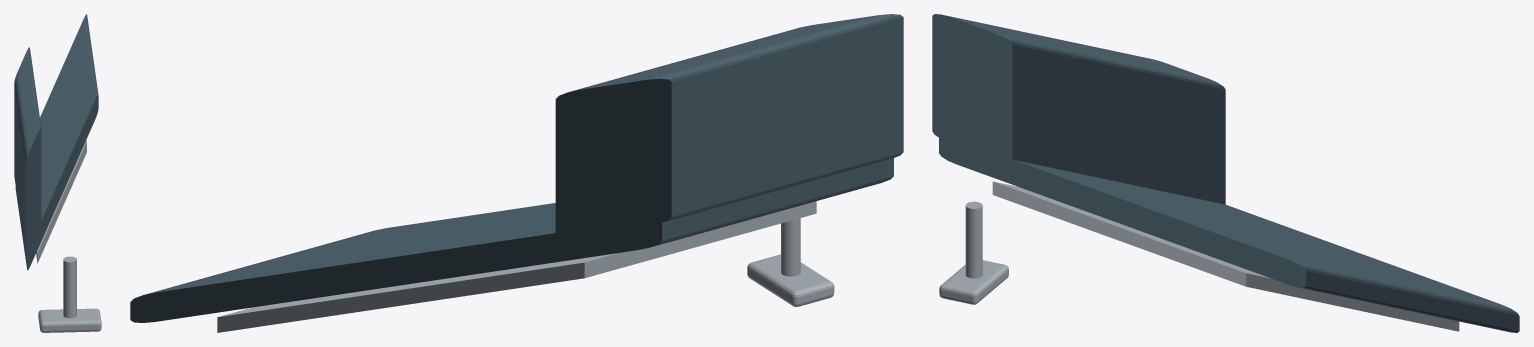
The model's file is cabin_bench_26p.glb.
3 views of the same model, side by side, from view 1: azimuth 30°, elevation 25°; view 2: azimuth 150°, elevation 25°; view 3: azimuth 270°, elevation 25° (orthographic). The views are drawn at different scales.
Visible parts, largest first — view 1: Bench seat cushion.012, Bench upright back.012, Bench foot.040, Bench pedestal.040, Bench support beam.012; view 2: Bench upright back.012, Bench seat cushion.012, Bench support beam.012, Bench foot.040, Bench pedestal.040; view 3: Bench upright back.012, Bench seat cushion.012, Bench support beam.012, Bench foot.040, Bench pedestal.040.
Boxes of the visible parts, x1,y1,x2,y2 form: Bench seat cushion.012: [15, 14, 98, 270]; Bench upright back.012: [14, 47, 41, 257]; Bench foot.040: [38, 308, 101, 332]; Bench pedestal.040: [63, 256, 76, 318]; Bench support beam.012: [36, 139, 86, 263]; Bench upright back.012: [555, 14, 903, 234]; Bench seat cushion.012: [130, 158, 893, 322]; Bench support beam.012: [217, 201, 816, 332]; Bench foot.040: [747, 254, 834, 306]; Bench pedestal.040: [781, 218, 800, 276]; Bench upright back.012: [932, 14, 1225, 204]; Bench seat cushion.012: [939, 136, 1519, 332]; Bench support beam.012: [992, 181, 1459, 331]; Bench foot.040: [939, 260, 1008, 304]; Bench pedestal.040: [965, 201, 982, 278].
Bounding box in the file's own units: 2 × 1.25 × 2.75.
